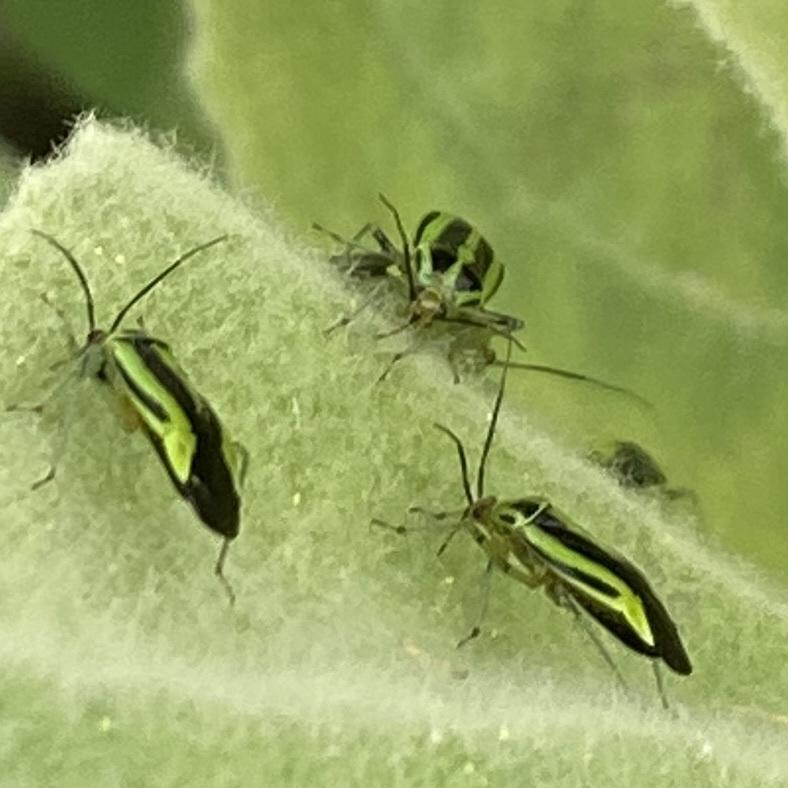plant_bugs: (353, 357, 740, 749), (0, 192, 296, 648), (298, 146, 573, 391)
